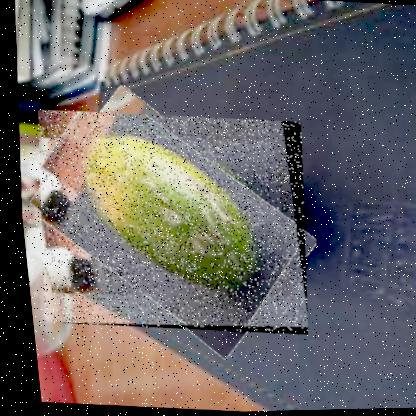orange_rotten: (19, 104, 315, 341)
